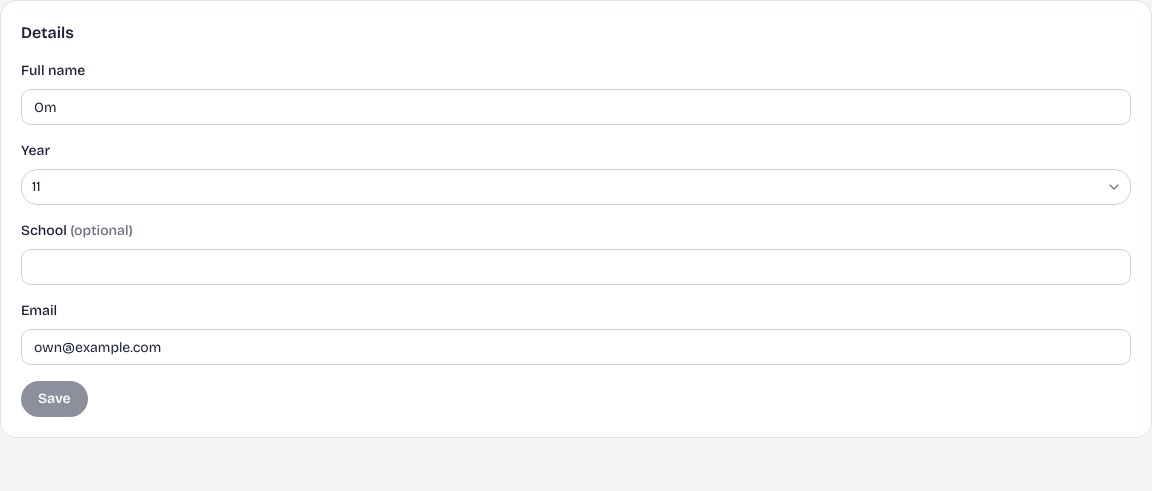
keeps details and the draft after a failed request
Replace the text in the field labelled "Full name" with "Unsaved name" at (576, 107), box [21,89,1131,125]
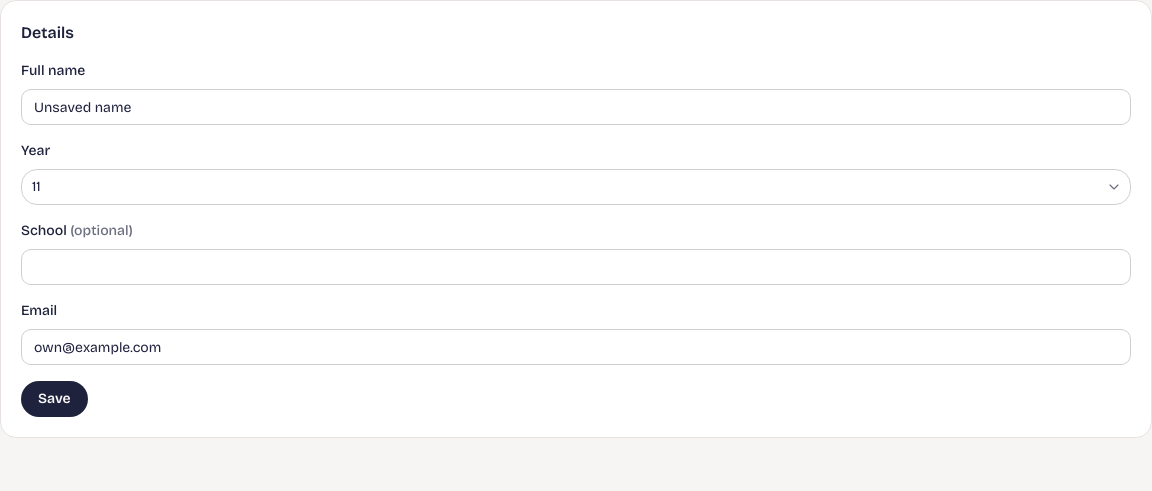
Result: the button "Save" is enabled at [21,381,88,417]
Submit the form named "Details"
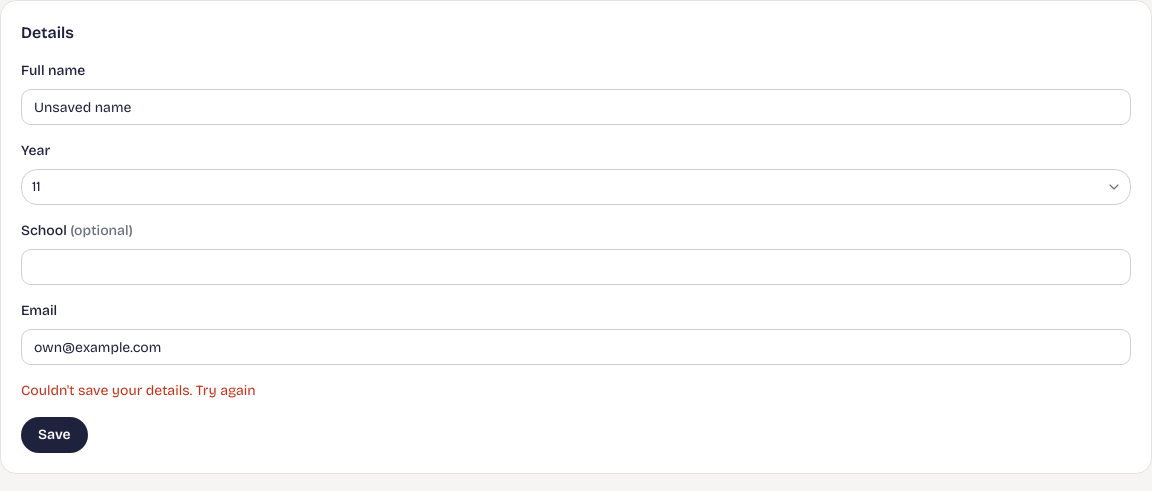
Result: the message reads "Couldn't save your details. Try again" at [21,382,256,399]
